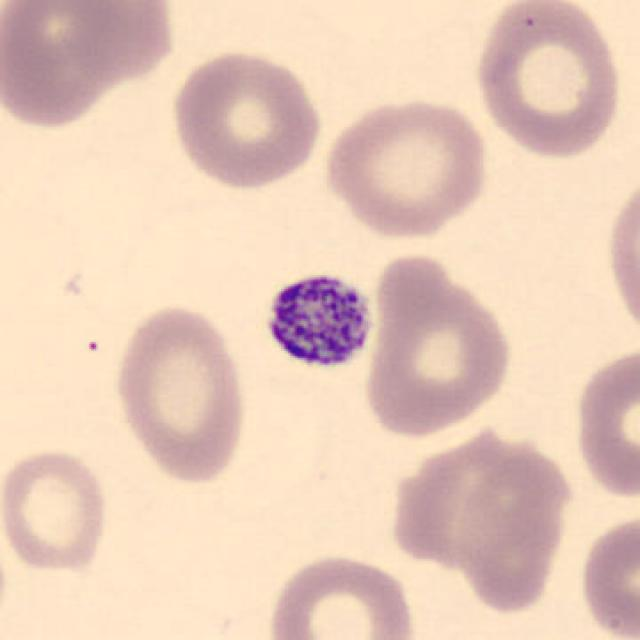Platelets: (256, 266, 379, 378)
RBC: (382, 420, 574, 598), (359, 250, 517, 442), (109, 300, 252, 488), (318, 91, 494, 242), (469, 0, 625, 160), (0, 0, 181, 134), (166, 46, 326, 194), (0, 444, 114, 576), (263, 550, 421, 640), (569, 339, 640, 504), (574, 508, 638, 640), (601, 166, 640, 349)
